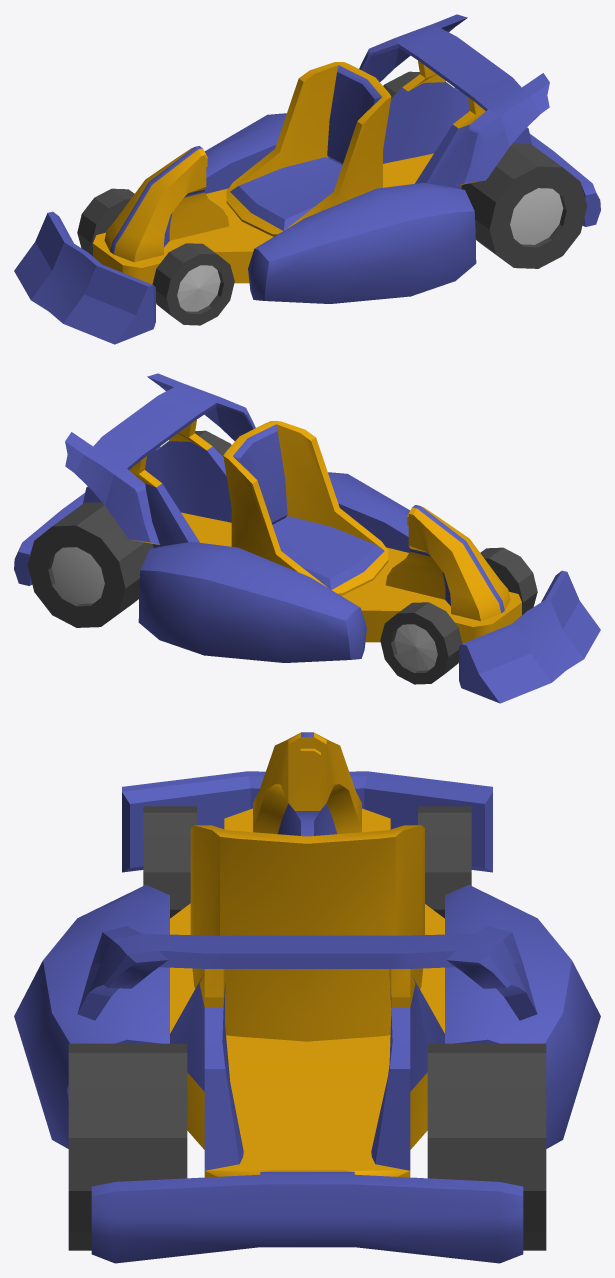
Rendered from RacerOrange.fbx.
3 views of the same model, one above another, from view 1: azimuth 30°, elevation 25°; view 2: azimuth 150°, elevation 25°; view 3: azimuth 270°, elevation 25° (orthographic). The views are drawn at different scales.
Visible parts, largest first — view 1: pCube4, LeftSkirt, originalSeat1, TireRearLeft, FrontBumper, SteeringColumn, TireFrontLeft, RightSkirt, TireFrontRight, RearBumper; view 2: pCube4, RightSkirt, originalSeat1, TireRearRight, FrontBumper, SteeringColumn, TireFrontRight, LeftSkirt, TireFrontLeft, RearBumper; view 3: pCube4, originalSeat1, RearBumper, TireRearRight, TireRearLeft, RightSkirt, LeftSkirt, FrontBumper, SteeringColumn, TireFrontLeft, TireFrontRight.
Boxes of the visible parts, <box> form: pCube4: <box>93,14,549,284</box>; LeftSkirt: <box>248,182,476,303</box>; originalSeat1: <box>226,62,391,236</box>; TireRearLeft: <box>461,143,587,268</box>; FrontBumper: <box>14,211,155,344</box>; SteeringColumn: <box>104,146,229,262</box>; TireFrontLeft: <box>152,243,234,325</box>; RightSkirt: <box>204,113,286,193</box>; TireFrontRight: <box>77,188,134,255</box>; RearBumper: <box>530,134,600,226</box>; pCube4: <box>65,373,521,643</box>; RightSkirt: <box>138,541,366,662</box>; originalSeat1: <box>223,421,388,595</box>; TireRearRight: <box>27,502,153,627</box>; FrontBumper: <box>459,570,600,703</box>; SteeringColumn: <box>385,505,510,621</box>; TireFrontRight: <box>380,602,462,684</box>; LeftSkirt: <box>328,472,410,552</box>; TireFrontLeft: <box>480,547,537,614</box>; RearBumper: <box>14,493,84,585</box>; pCube4: <box>77,808,537,1177</box>; originalSeat1: <box>190,825,424,1041</box>; RearBumper: <box>91,1172,523,1263</box>; TireRearRight: <box>427,1043,546,1250</box>; TireRearLeft: <box>68,1043,187,1250</box>; RightSkirt: <box>445,885,600,1148</box>; LeftSkirt: <box>14,885,169,1148</box>; FrontBumper: <box>122,771,492,872</box>; SteeringColumn: <box>253,732,361,836</box>; TireFrontLeft: <box>143,806,196,918</box>; TireFrontRight: <box>418,806,471,918</box>.
Size of the model in its own units: 4.58 by 1.48 by 2.54.
